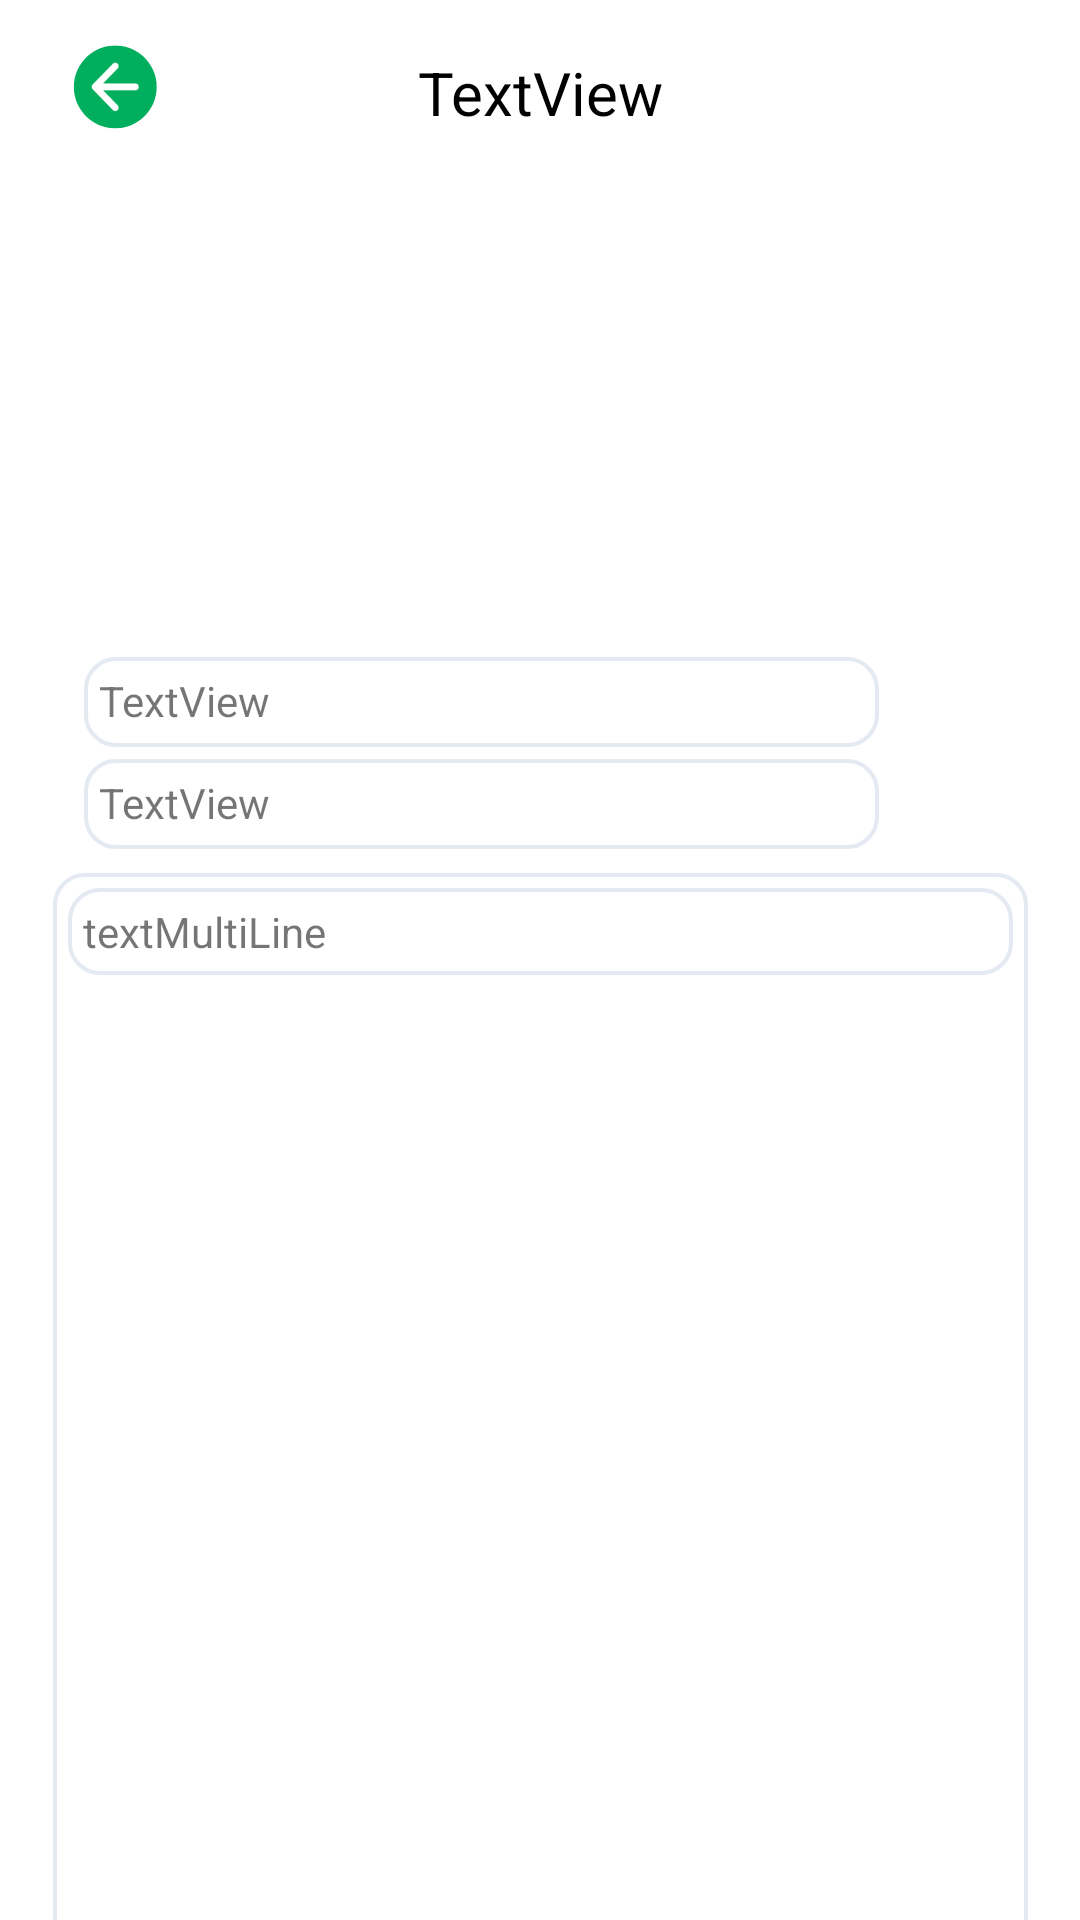

Icon bounding boxes for this 1080w x 1920h phone screenshot, format detection(x1, y1, x2, y2):
backbttn: detection(74, 45, 157, 129)
